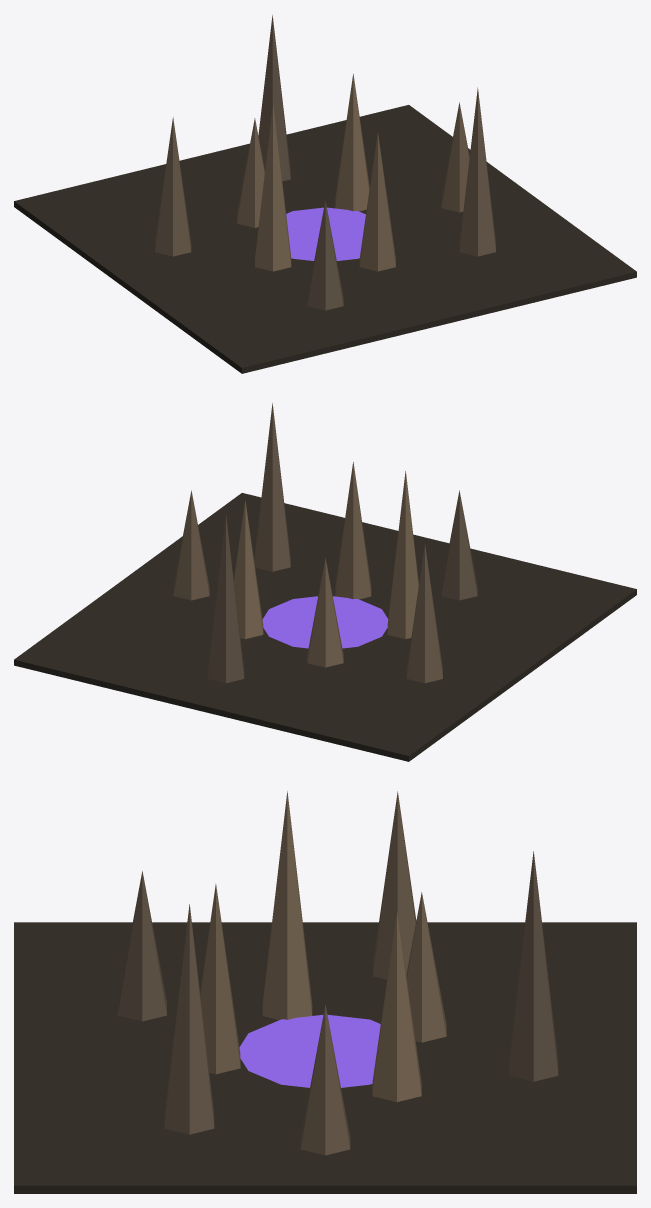
Rendered from trap.fbx.
3 views of the same model, one above another, from view 1: azimuth 30°, elevation 25°; view 2: azimuth 150°, elevation 25°; view 3: azimuth 270°, elevation 25° (orthographic). The views are drawn at different scales.
Visible parts, largest first — view 1: trap, Spikes; view 2: trap, Spikes; view 3: trap, Spikes.
Boxes of the visible parts, <box> form: trap: <box>14,105,636,373</box>; Spikes: <box>155,15,495,310</box>; trap: <box>14,493,636,761</box>; Spikes: <box>173,403,477,683</box>; trap: <box>14,922,636,1193</box>; Spikes: <box>117,791,558,1155</box>.
Bounding box in the file's own units: 2.8 × 1.13 × 2.8.
